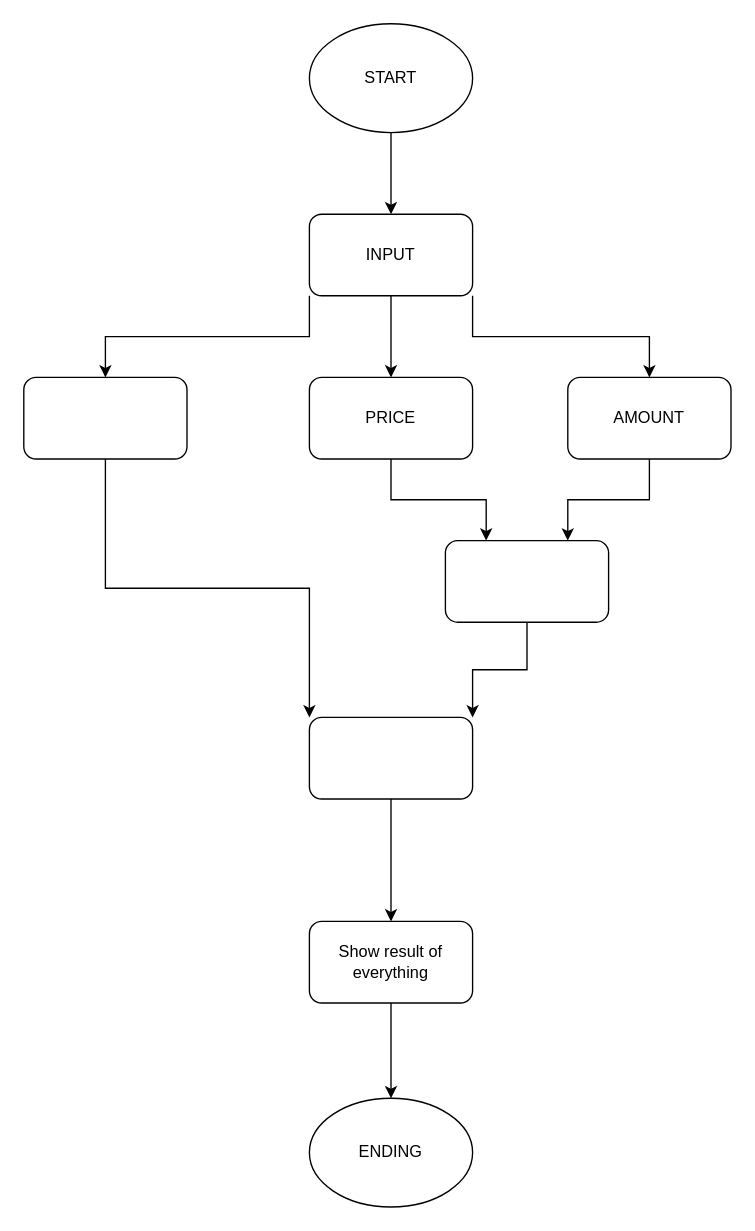
Image size: 755x1231. Some labels were removed from this diagram. The shapes that lost their labels are listed below. From the top down, each one's box as (x1, y1, x2, y2) in pixels, then its label:
(22, 376, 187, 459): NAME
(444, 539, 609, 622): CALCULATED TOTAL COST
(308, 716, 473, 799): PRINT
